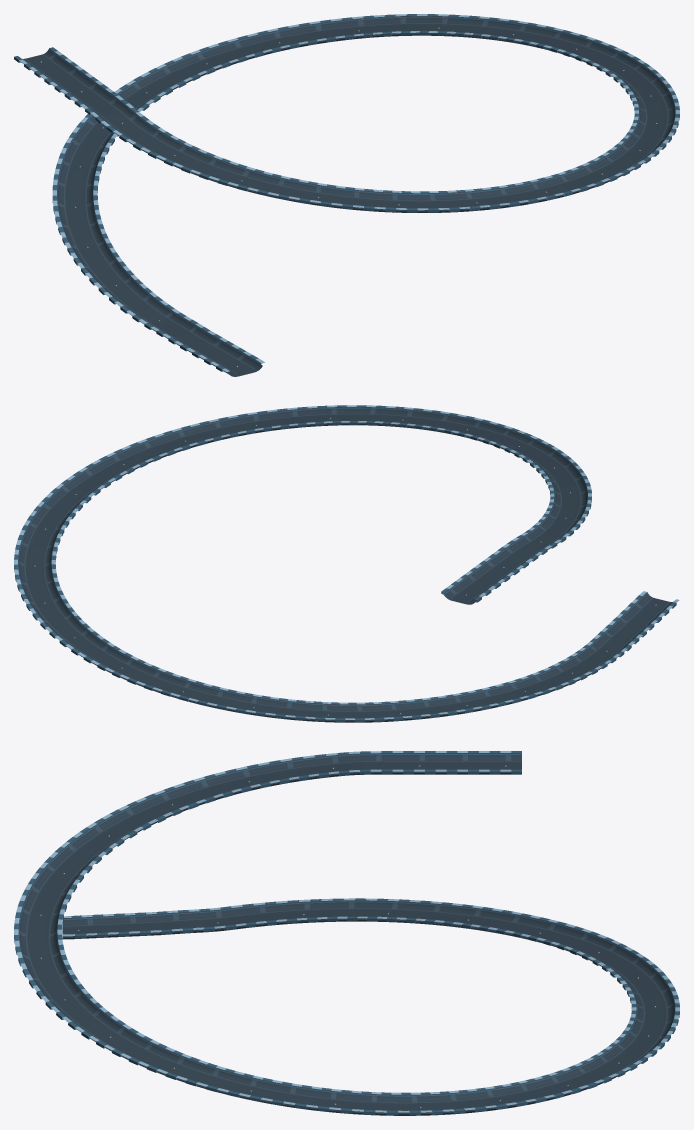
The model's file is 180_d_block_T3.fbx.
3 views of the same model, one above another, from view 1: azimuth 30°, elevation 25°; view 2: azimuth 150°, elevation 25°; view 3: azimuth 270°, elevation 25° (orthographic). The views are drawn at different scales.
Visible parts, largest first — view 1: blue_180block_L_T3; view 2: blue_180block_L_T3; view 3: blue_180block_L_T3.
Part boxes in pixels (x1,y1,x2,y2): blue_180block_L_T3: [14, 14, 679, 376]; blue_180block_L_T3: [14, 405, 679, 722]; blue_180block_L_T3: [14, 751, 679, 1115].
Size of the model in its own units: 16209 by 4517 by 15620.
